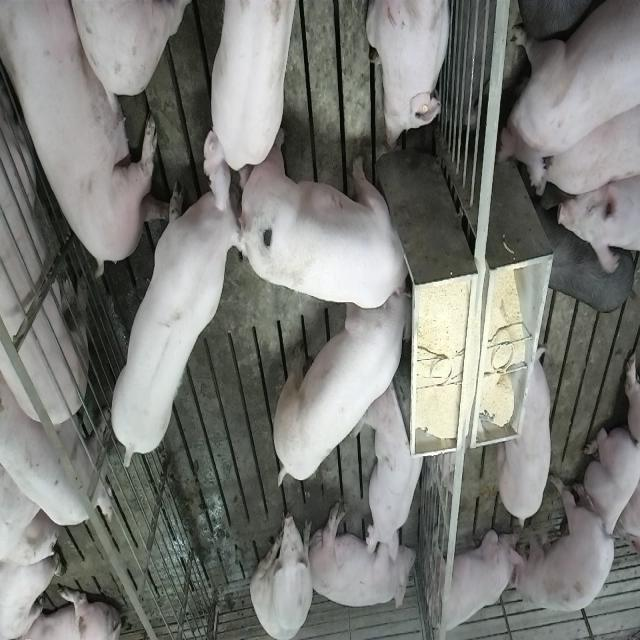Feeding: (268, 280, 411, 496), (245, 135, 419, 309)
Lateral_lying: (307, 500, 417, 612)
Sitting: (422, 518, 520, 640), (250, 503, 314, 638)
Standing: (110, 150, 250, 478), (0, 27, 90, 436), (499, 0, 638, 182), (0, 376, 110, 531), (202, 1, 294, 174), (510, 475, 614, 615), (531, 92, 637, 205), (500, 353, 558, 530), (539, 214, 637, 316), (560, 170, 640, 274)
Sternal_lying: (366, 0, 453, 150), (365, 382, 430, 564), (576, 429, 638, 555)
